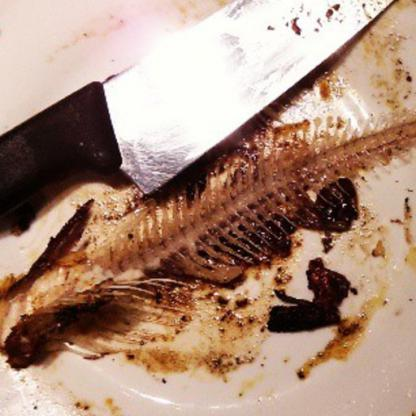knife: (0, 0, 416, 293)
